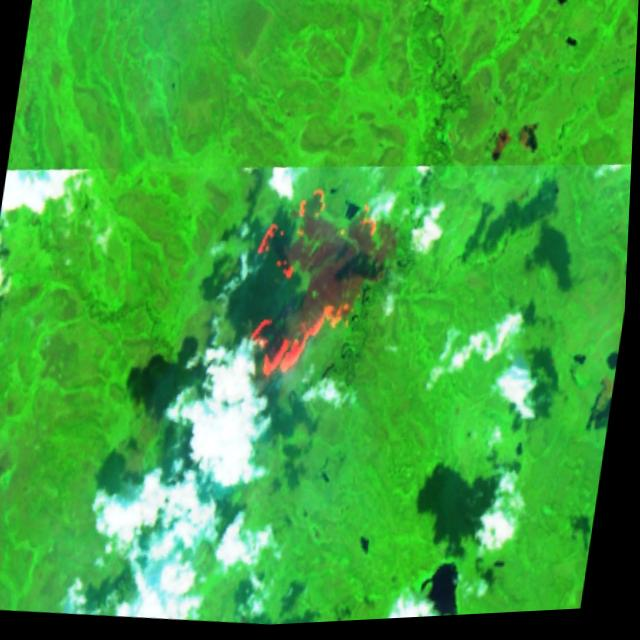fire: (233, 173, 397, 398)
